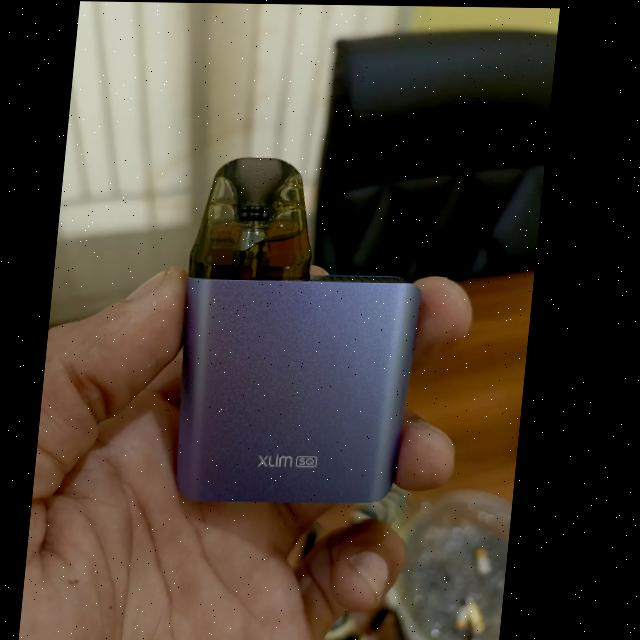vape: (171, 158, 443, 502)
